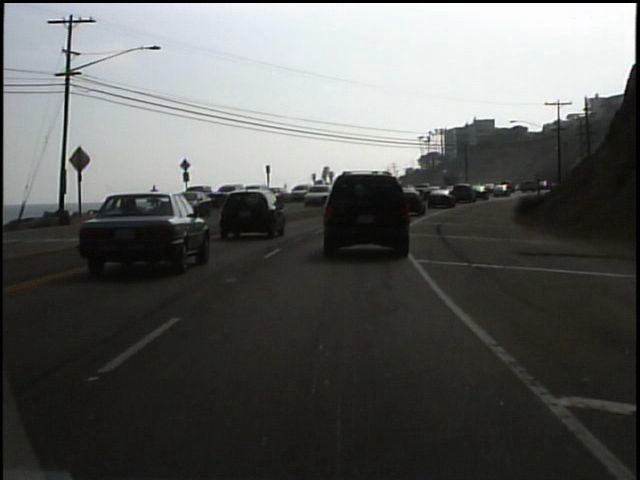person: (148, 182, 164, 211)
